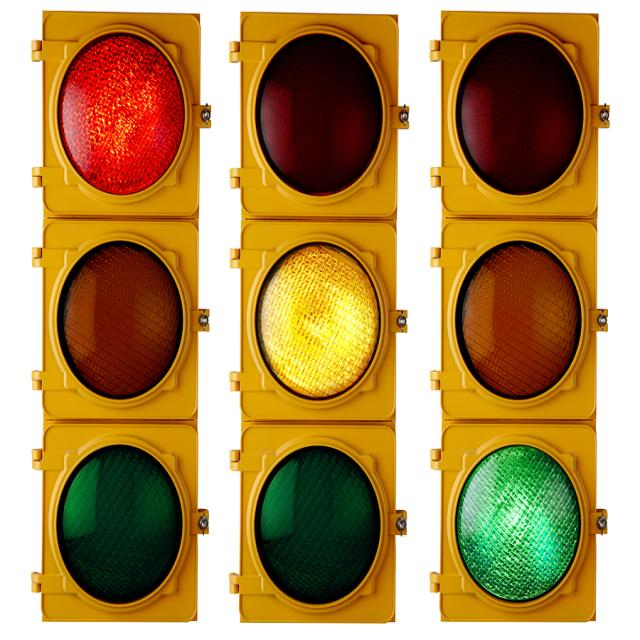green-lights: (448, 437, 590, 610)
red-lights: (52, 20, 194, 204)
yellow-lights: (249, 231, 391, 403)
